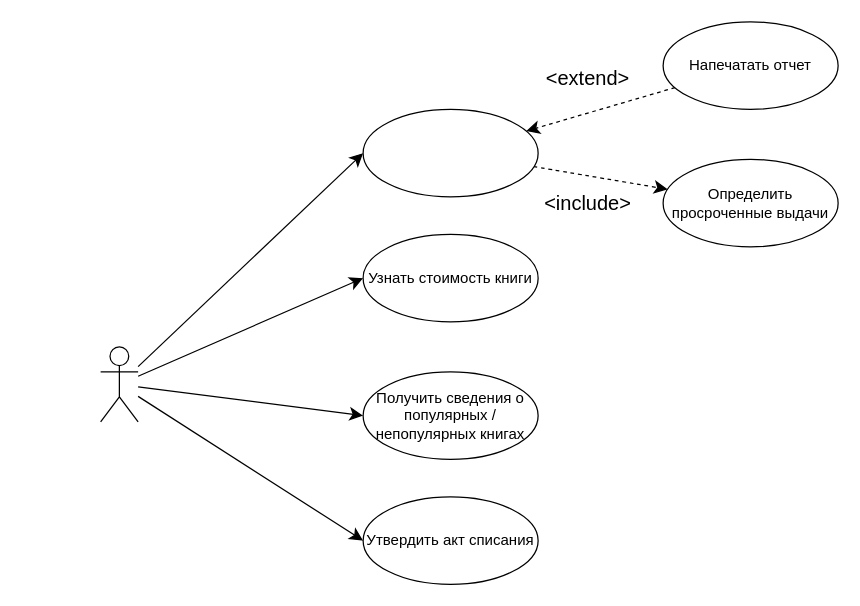
Image size: 860x606. Some labels were removed from this diagram. The box of each missing label's shape, as (x1, y1, x2, y2) in pixels:
Администрация библиотеки: (99, 346, 138, 422)
Получить сведения о должниках: (362, 108, 538, 197)
